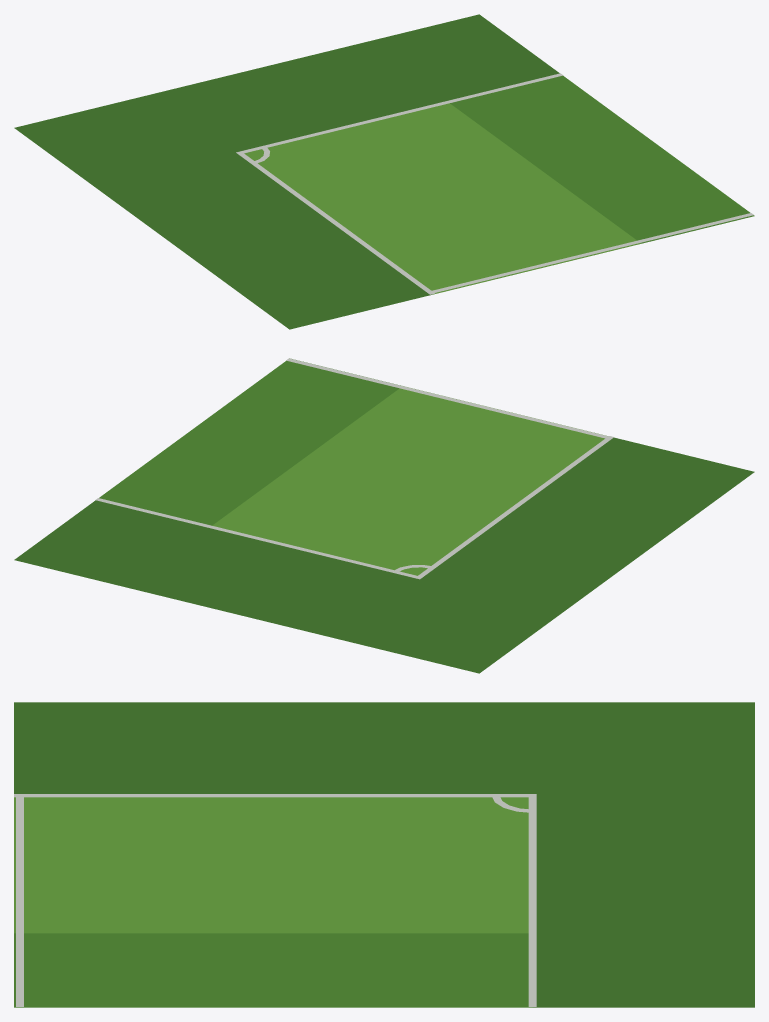
The model's file is pitch_0_0.glb.
The picture shows the model from 3 angles, top to bottom: view 1: azimuth 30°, elevation 25°; view 2: azimuth 150°, elevation 25°; view 3: azimuth 270°, elevation 25°; orthographic projection. The views are drawn at different scales.
Visible parts, largest first — view 1: pitch_0_0; view 2: pitch_0_0; view 3: pitch_0_0.
Part boxes in pixels (<box>): pitch_0_0: <box>14,14,754,329</box>; pitch_0_0: <box>14,358,754,673</box>; pitch_0_0: <box>14,702,754,1007</box>.
Bounding box in the file's own units: 19.5 × 0.02 × 20.
